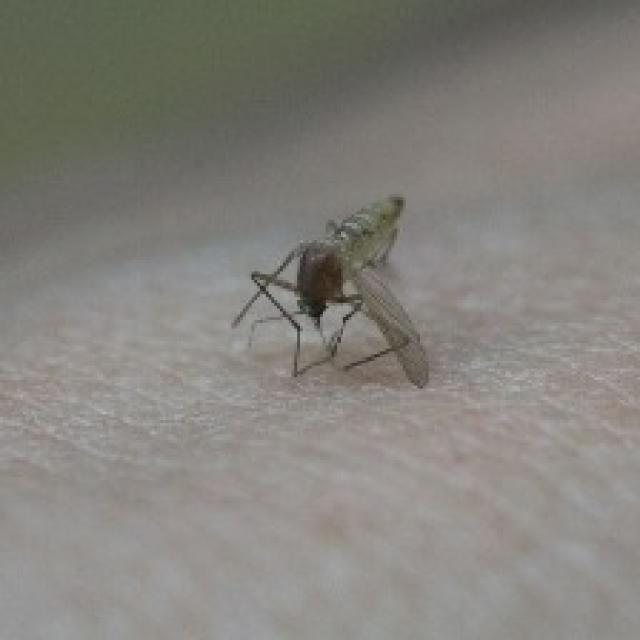culex: (228, 188, 428, 388)
